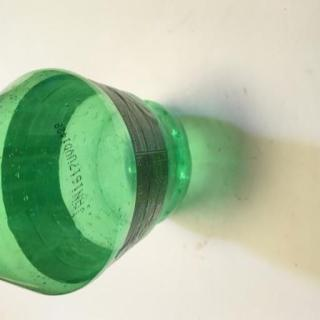Plastic-bottle: (1, 65, 195, 301)
